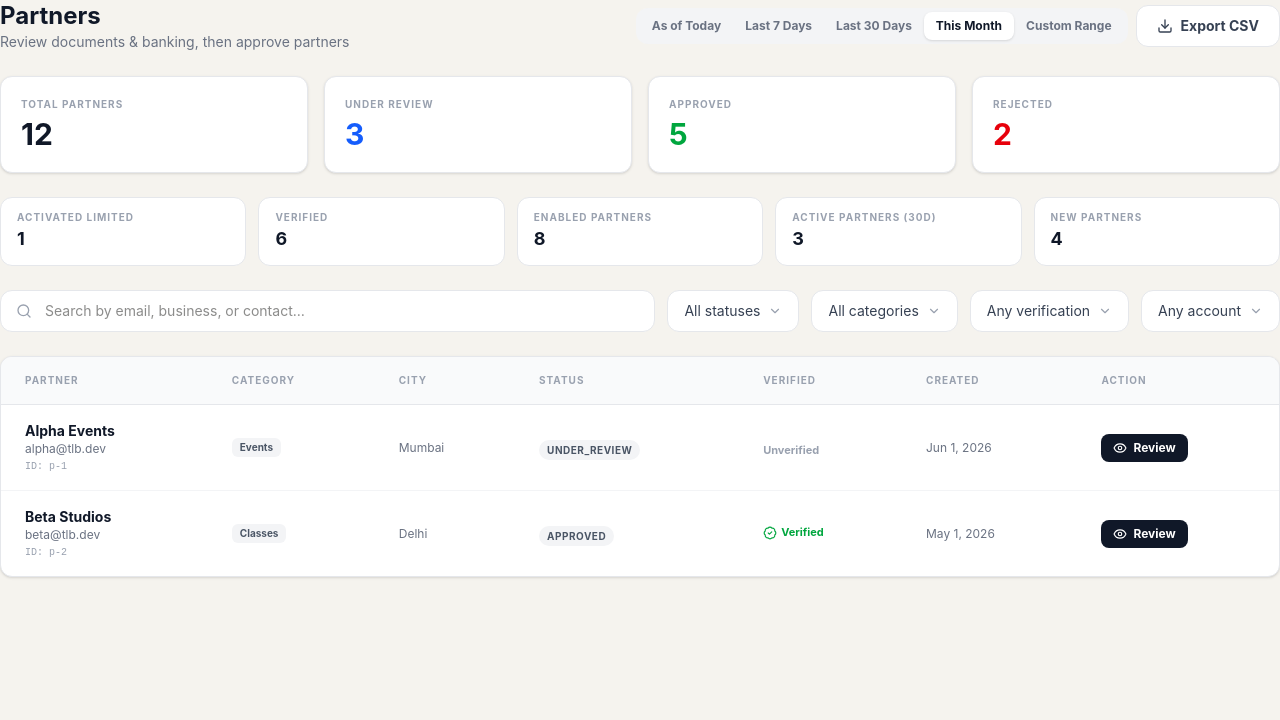
Test: PartnerManagement › opens the review page and shows the workflow
The image size is (1280, 720).
Click the text "Alpha Events": [70, 431] box left=25, top=421, right=115, bottom=441
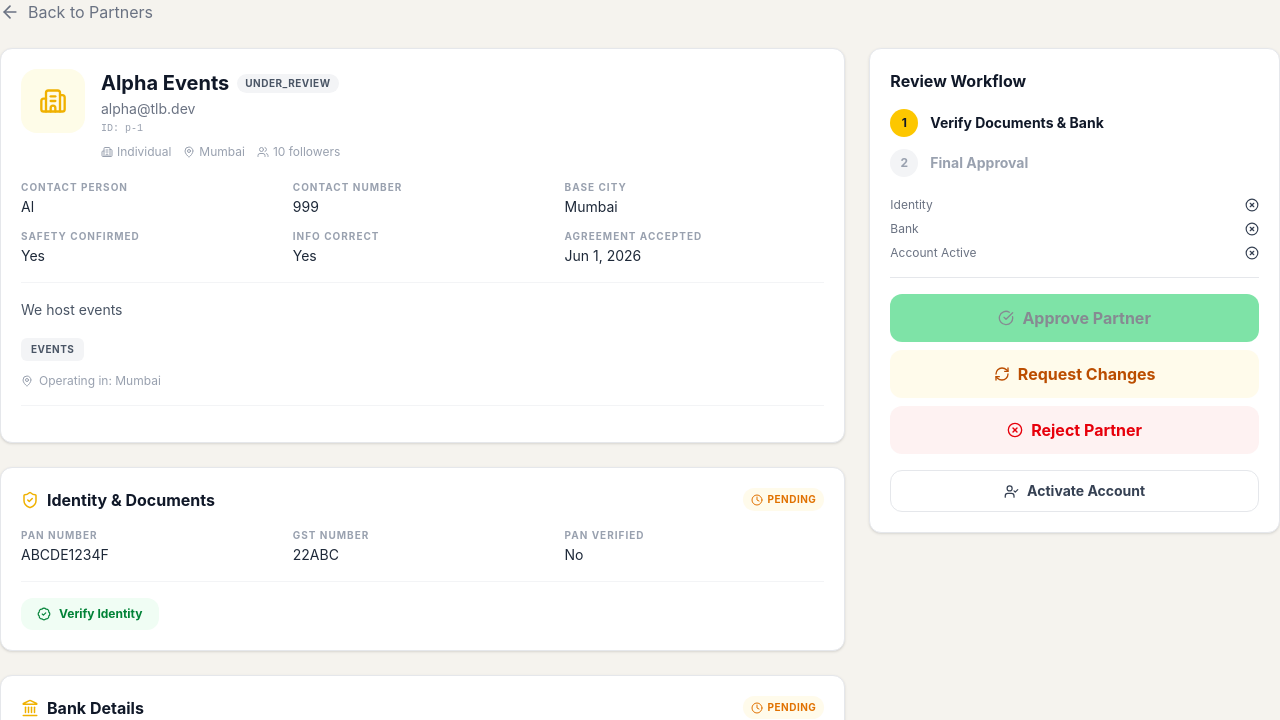
Expected: the heading "Review Workflow" is shown, left=890, top=71, right=1026, bottom=91
Expected: the heading "Identity & Documents" is shown, left=21, top=488, right=215, bottom=512
Expected: the heading "Bank Details" is shown, left=21, top=696, right=144, bottom=719
